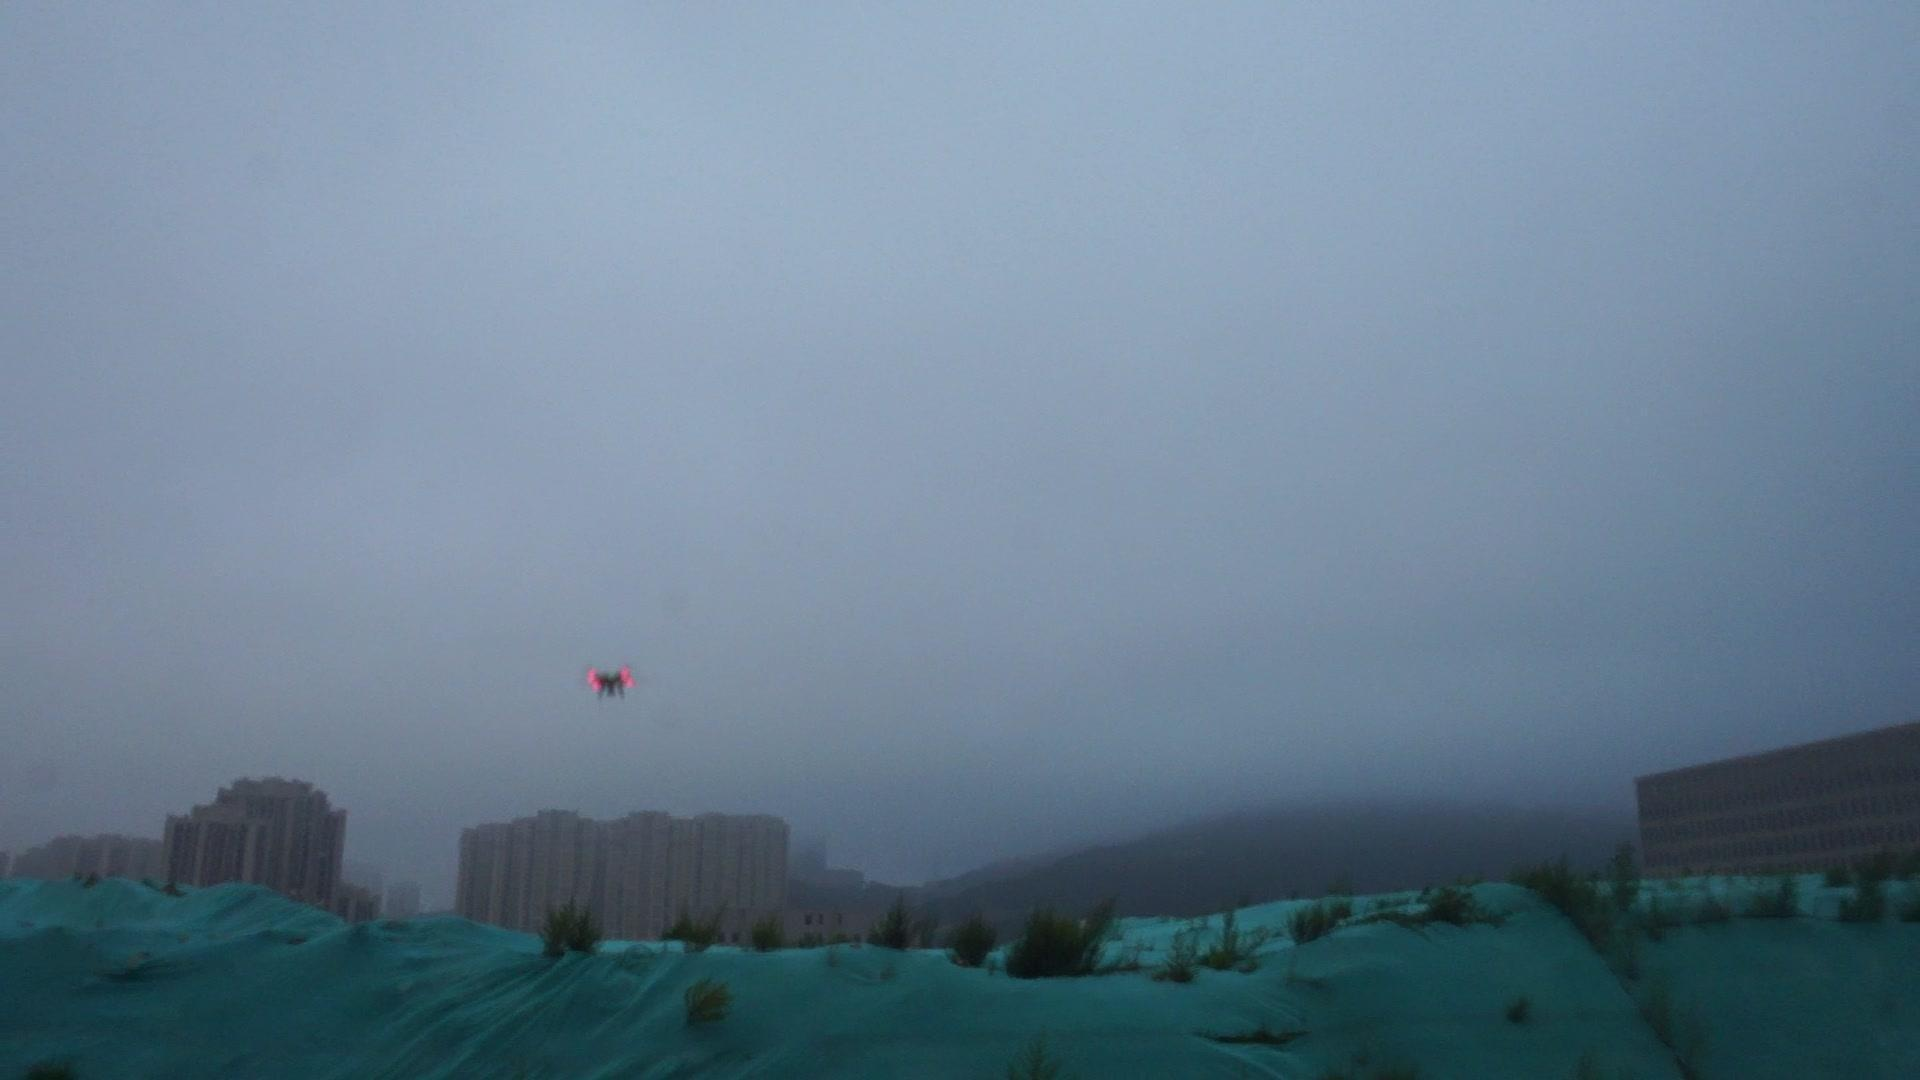UAV: (588, 666, 637, 702)
